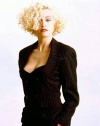female: (25, 4, 62, 47)
